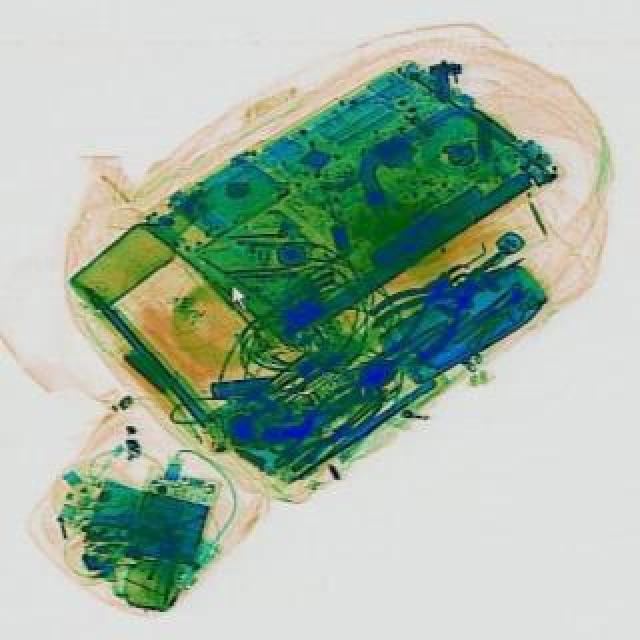wrench: (368, 220, 534, 368), (256, 368, 392, 484), (354, 244, 482, 356)
